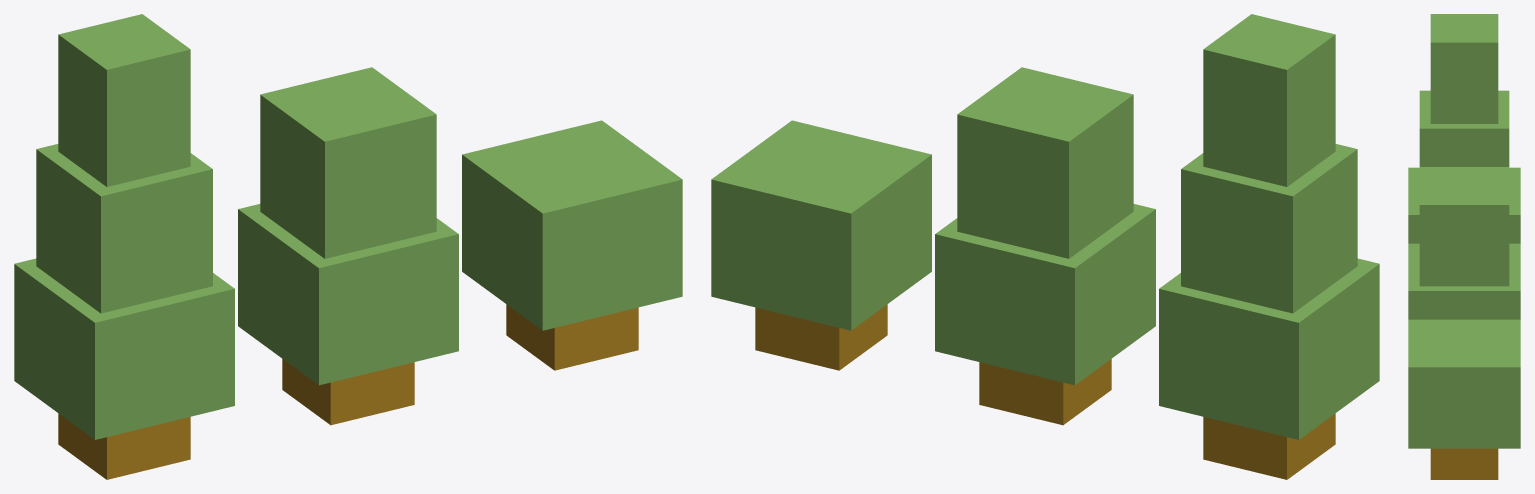
File: treemodel.fbx
3 renders of one model, left to right at view 1: azimuth 30°, elevation 25°; view 2: azimuth 150°, elevation 25°; view 3: azimuth 270°, elevation 25°, orthographic. The views are drawn at different scales.
Visible parts, largest first — view 1: Box108, Box106, Box102, Box105, Box104, Box101, Box109, Box107, Box103; view 2: Box108, Box106, Box102, Box105, Box104, Box101, Box109, Box107, Box103; view 3: Box108, Box105, Box101, Box106, Box104, Box109, Box102.
Part boxes in pixels (x1,y1,x2,y2): Box108: (462, 120, 682, 330); Box106: (238, 204, 458, 385); Box102: (14, 258, 234, 439); Box105: (260, 67, 436, 258); Box104: (36, 144, 212, 313); Box101: (58, 14, 190, 186); Box109: (506, 304, 638, 370); Box107: (282, 359, 414, 425); Box103: (58, 413, 190, 479); Box108: (711, 120, 931, 330); Box106: (935, 204, 1155, 385); Box102: (1159, 258, 1379, 439); Box105: (957, 67, 1133, 258); Box104: (1181, 144, 1357, 313); Box101: (1203, 14, 1335, 186); Box109: (755, 304, 887, 370); Box107: (979, 359, 1111, 425); Box103: (1203, 413, 1335, 479); Box108: (1408, 319, 1520, 448); Box105: (1419, 167, 1509, 286); Box101: (1430, 14, 1498, 123); Box106: (1408, 243, 1520, 319); Box104: (1419, 90, 1509, 166); Box109: (1430, 448, 1498, 479); Box102: (1408, 167, 1520, 243).
Bounding box in the file's own units: 420 × 280 × 100.
